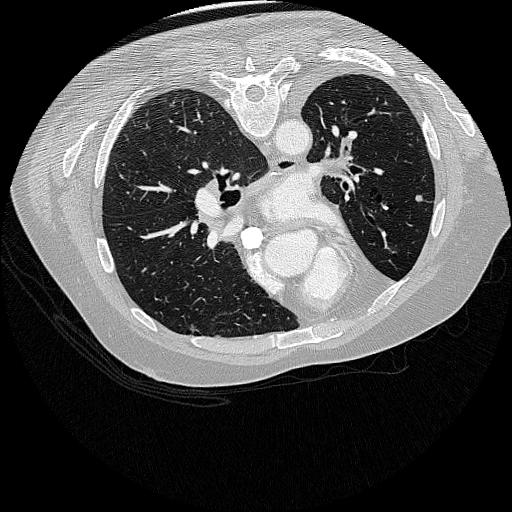nodule: (412, 194, 425, 207)
